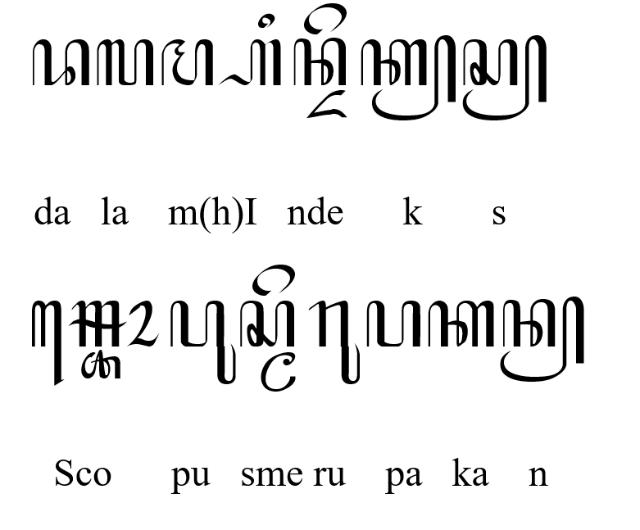-k: (361, 34, 457, 122)
-n: (500, 295, 586, 382)
-s: (462, 34, 548, 122)
S: (67, 299, 127, 346)
_c: (80, 350, 121, 380)
_d: (305, 89, 347, 119)
_h: (218, 39, 282, 88)
_m: (260, 351, 298, 392)
d: (31, 38, 90, 86)
e: (252, 263, 296, 297), (303, 3, 347, 35)
e1: (30, 300, 64, 388)
i: (257, 13, 275, 29)
k: (427, 300, 495, 348)
l: (95, 38, 153, 86)
m: (161, 37, 215, 87)
n: (292, 38, 348, 86)
o: (126, 300, 160, 348)
p: (366, 299, 422, 348)
pu: (169, 299, 237, 386)
ru: (307, 299, 361, 384)
s: (240, 299, 296, 348)
